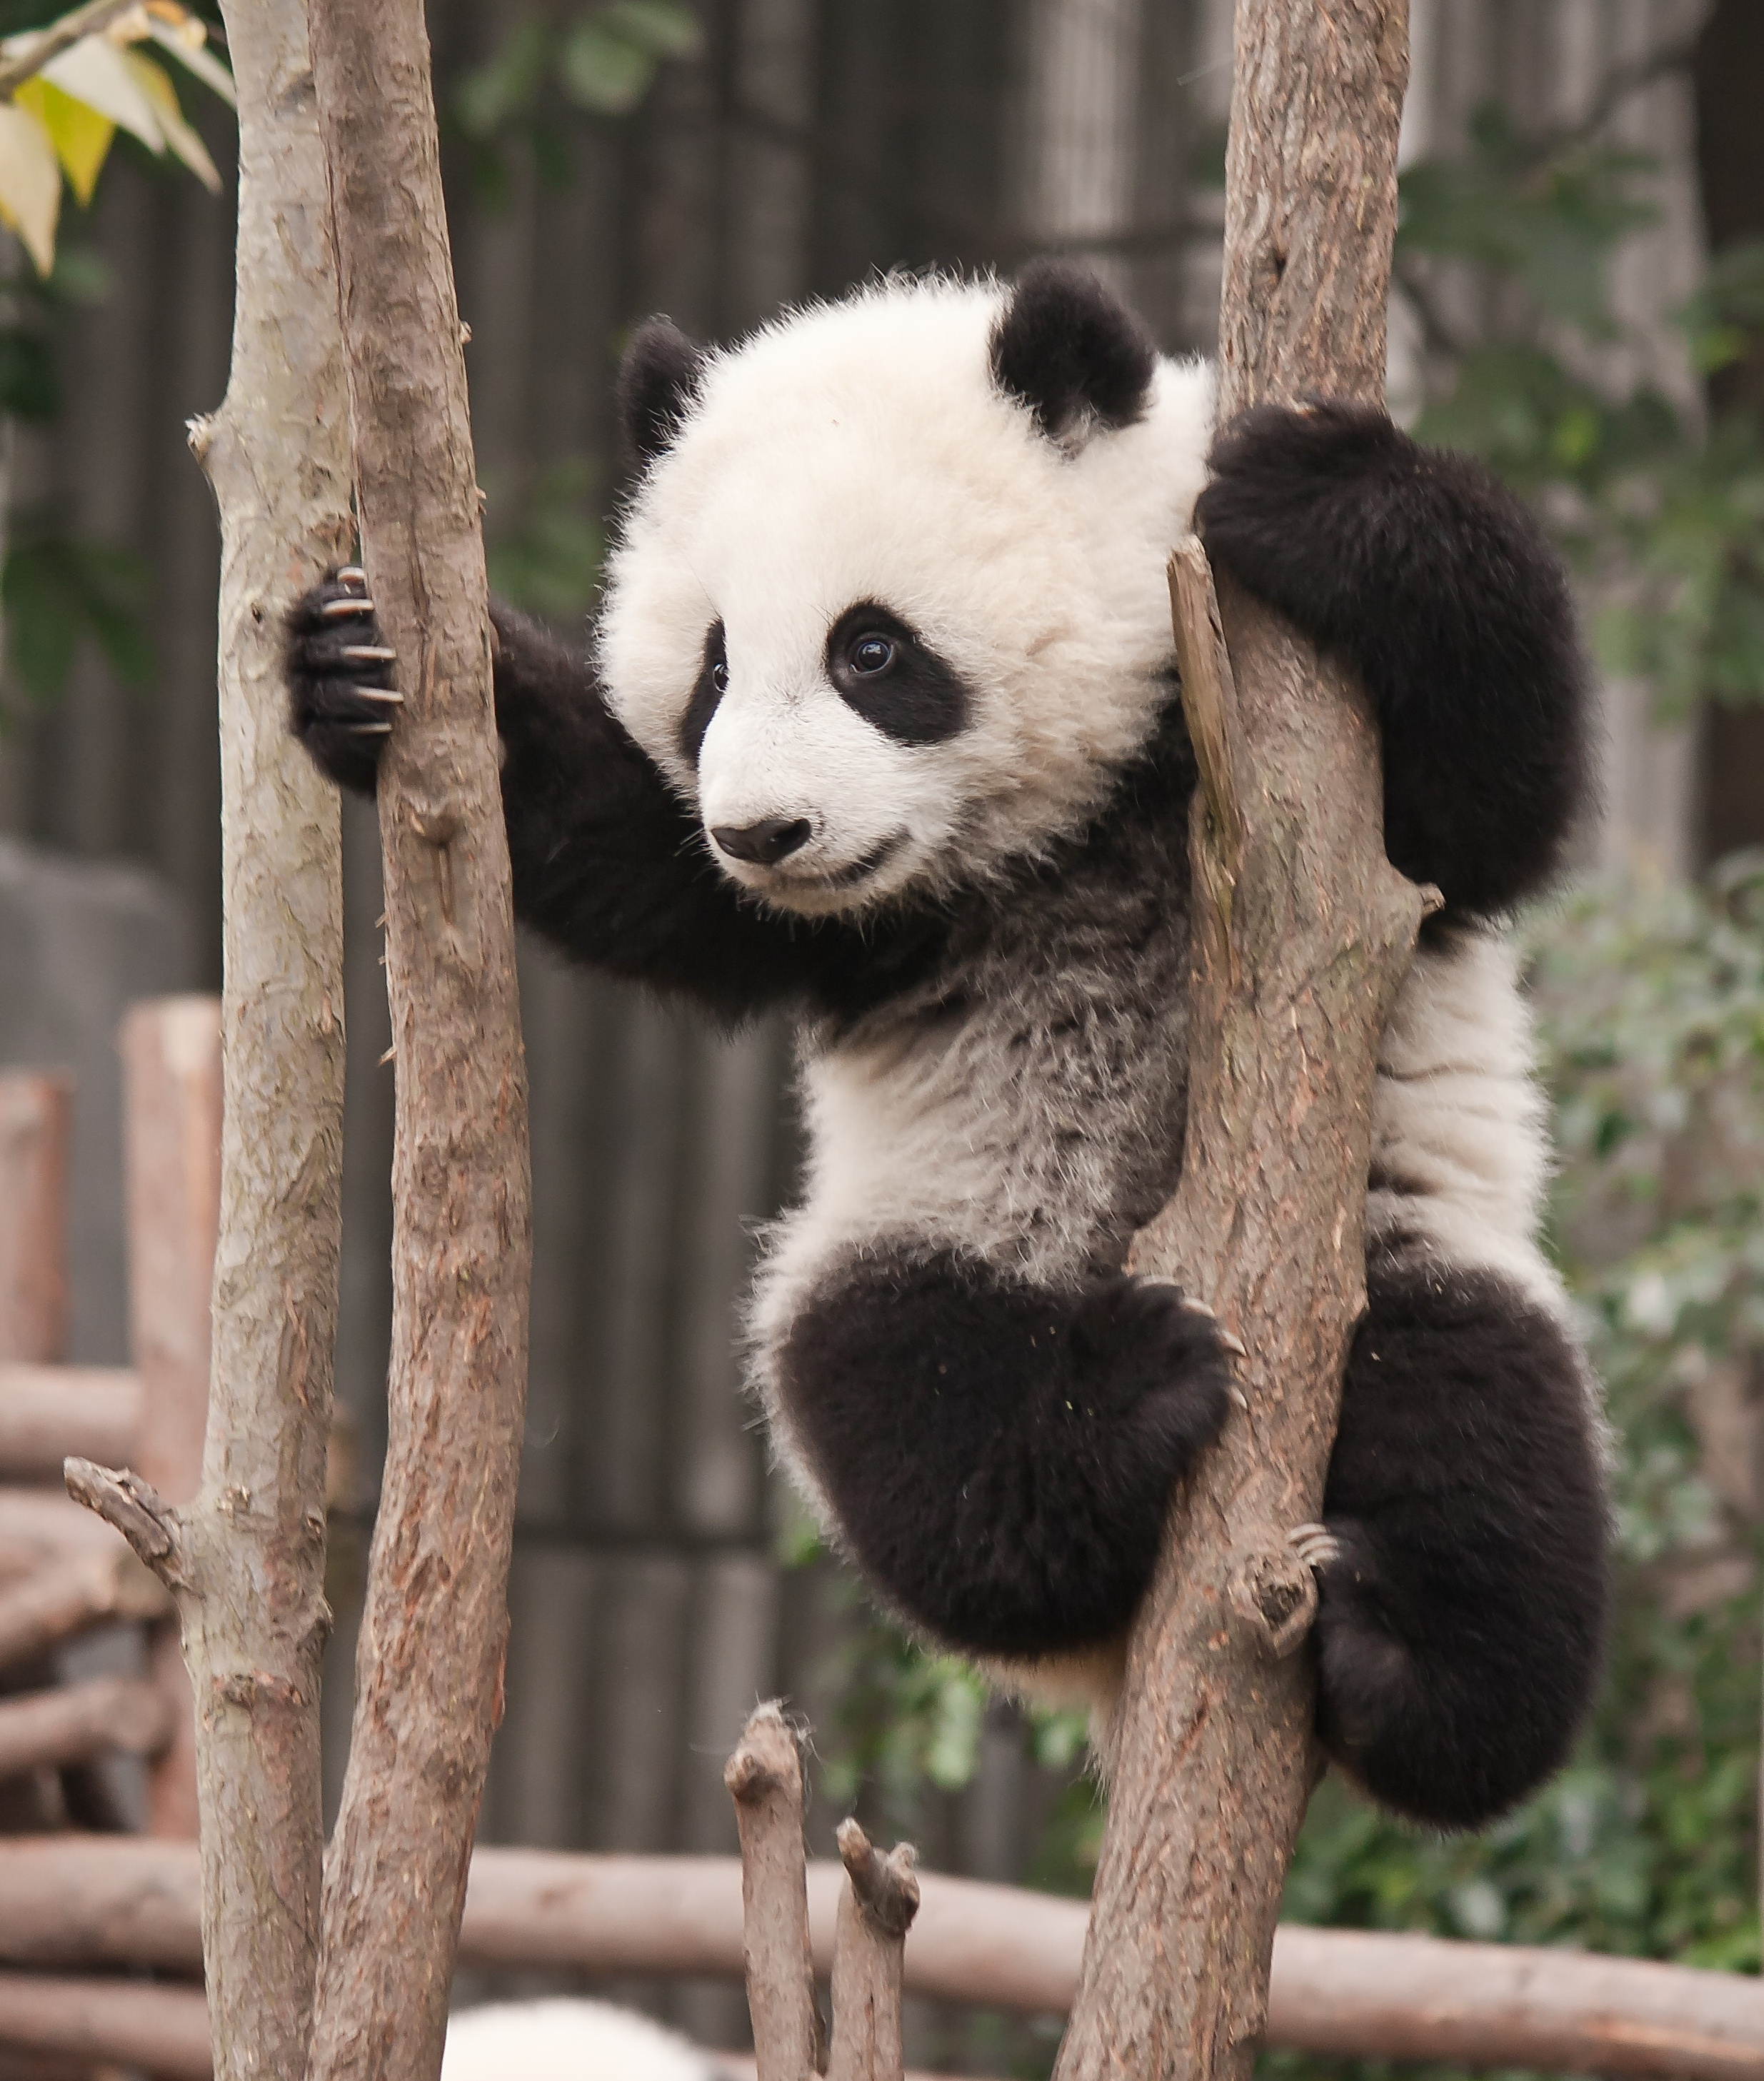panda: (255, 242, 1699, 1827)
